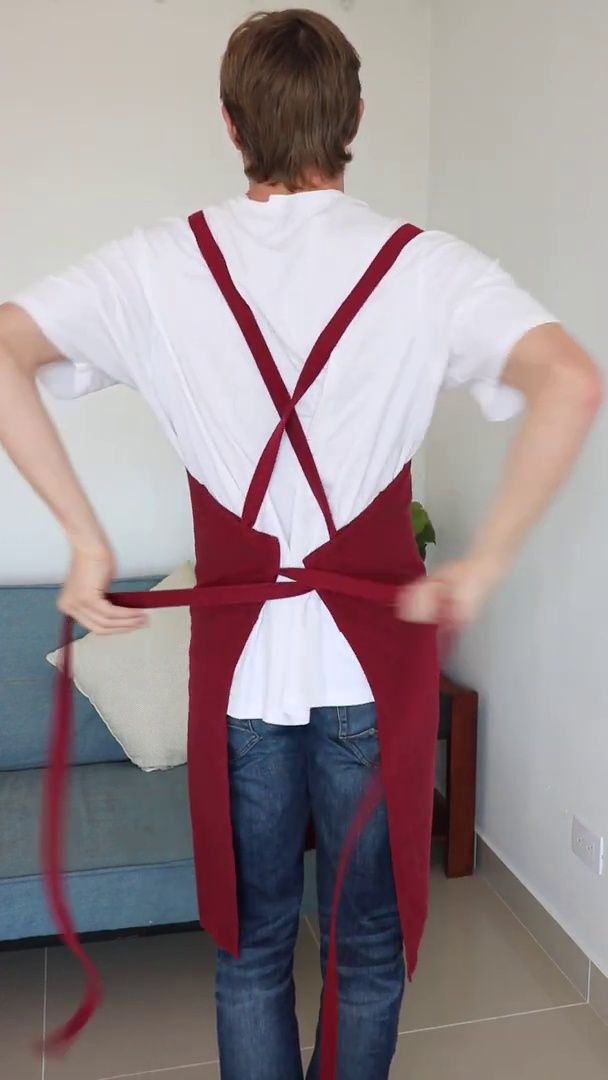Apron: (175, 217, 435, 687)
No_Glove: (57, 544, 151, 640), (398, 568, 499, 620)
No_Hairnet: (210, 10, 366, 178)
